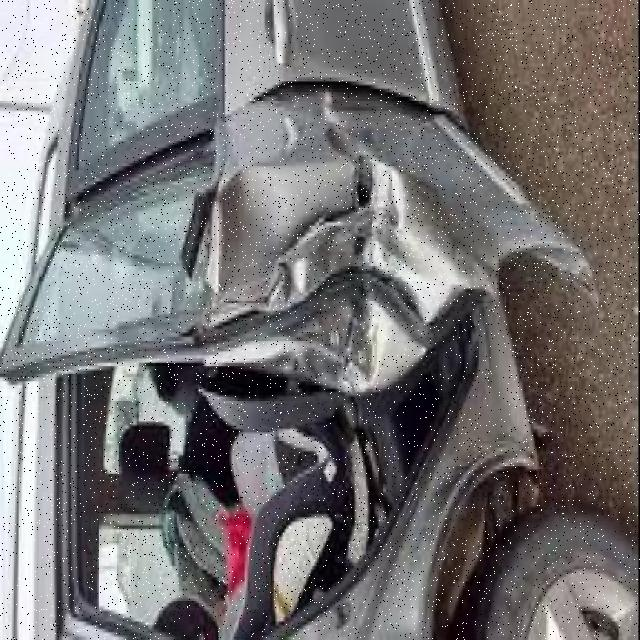damage: (175, 83, 501, 418)
